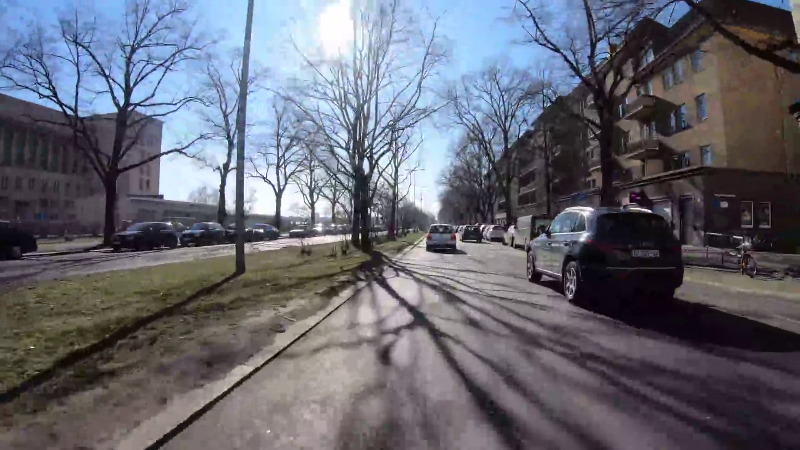Plate: (629, 247, 660, 259)
